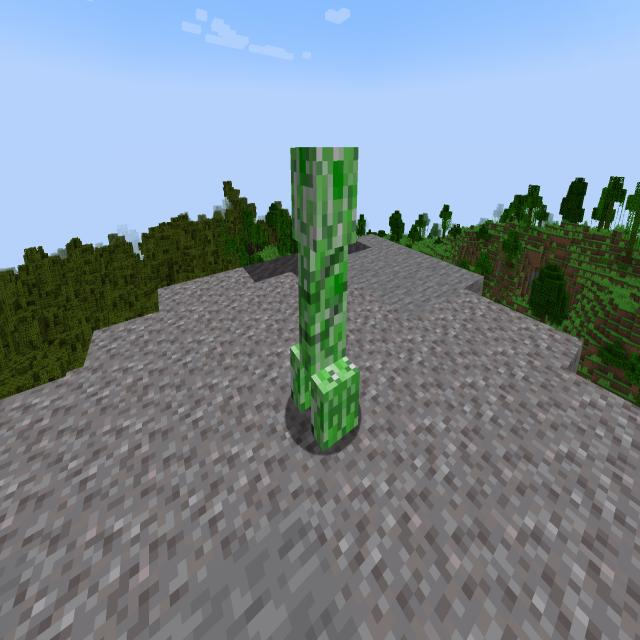Creeper: (277, 131, 373, 464)
